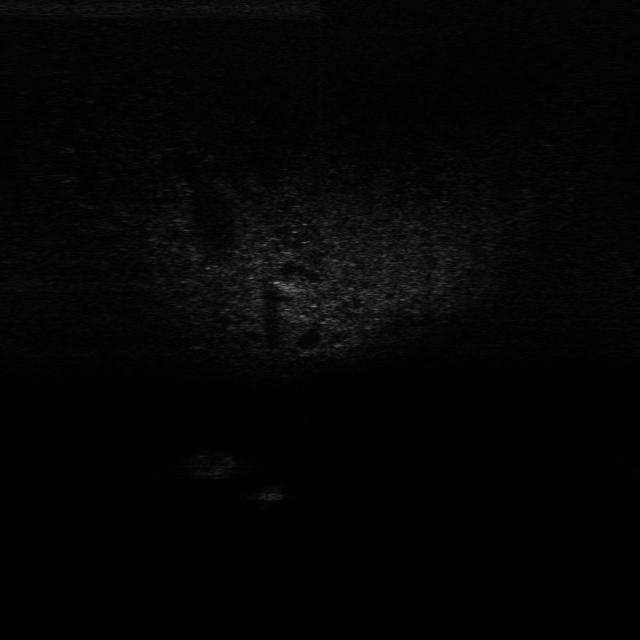circle cage: (194, 445, 237, 479)
cylinder: (259, 481, 282, 516)
